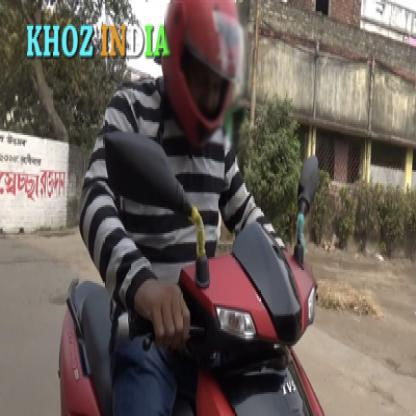Helmet: (164, 1, 244, 139)
